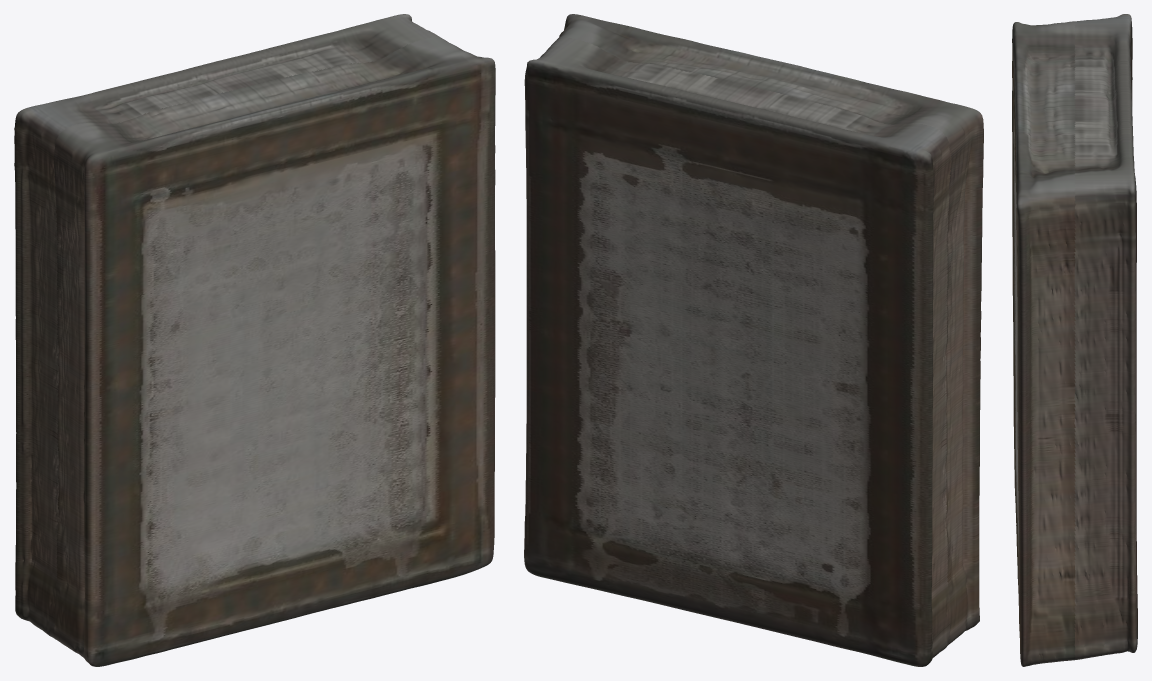
File: kfl-2187.glb
3 views of the same model, side by side, from view 1: azimuth 30°, elevation 25°; view 2: azimuth 150°, elevation 25°; view 3: azimuth 270°, elevation 25° (orthographic). The views are drawn at different scales.
Parts seen in each view (by area): view 1: geometry_0; view 2: geometry_0; view 3: geometry_0.
Part boxes in pixels (bbox=[...]): geometry_0: bbox=[14, 14, 495, 666]; geometry_0: bbox=[524, 14, 983, 666]; geometry_0: bbox=[1012, 14, 1137, 666].
Bounding box in the file's own units: 0.8525 × 0.999 × 0.2387.
1 material, 1 textured.
